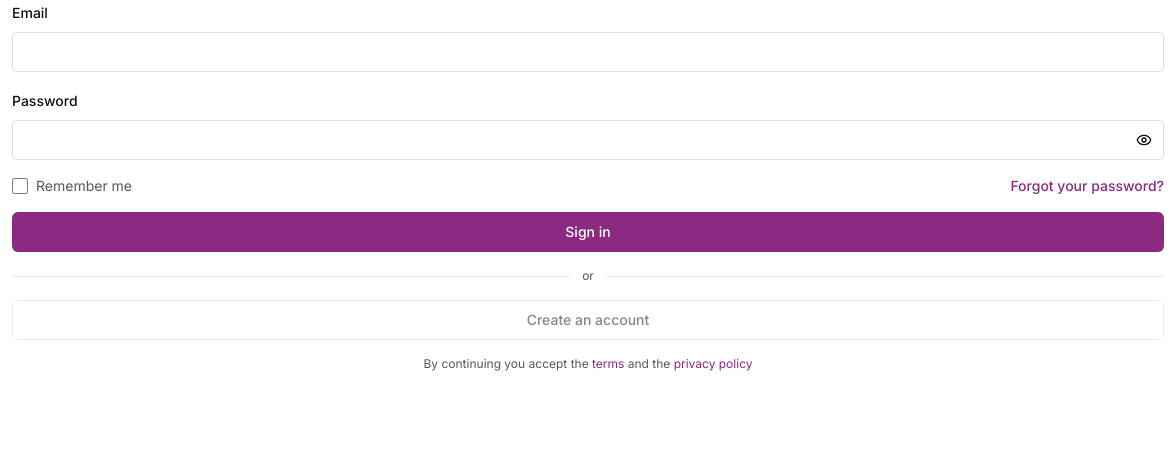
Test: login form — API failures › maps 423 UA-AUTH-003 to its own message
The image size is (1176, 458).
In the field labelled "Email": (588, 52) [12,32,1164,72], type "user@example.com"
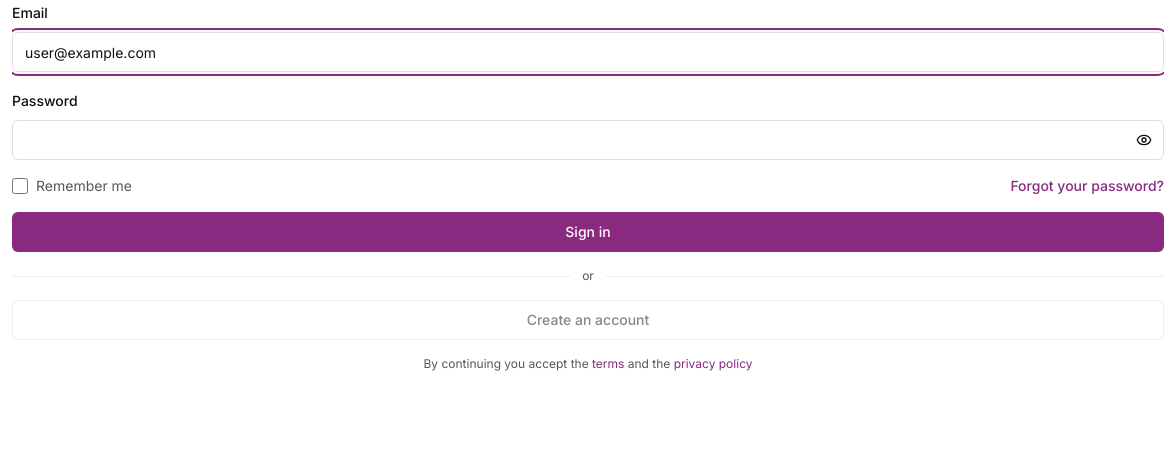
In the password field labelled "Password": (588, 140) [12,120,1164,160], type "secret"
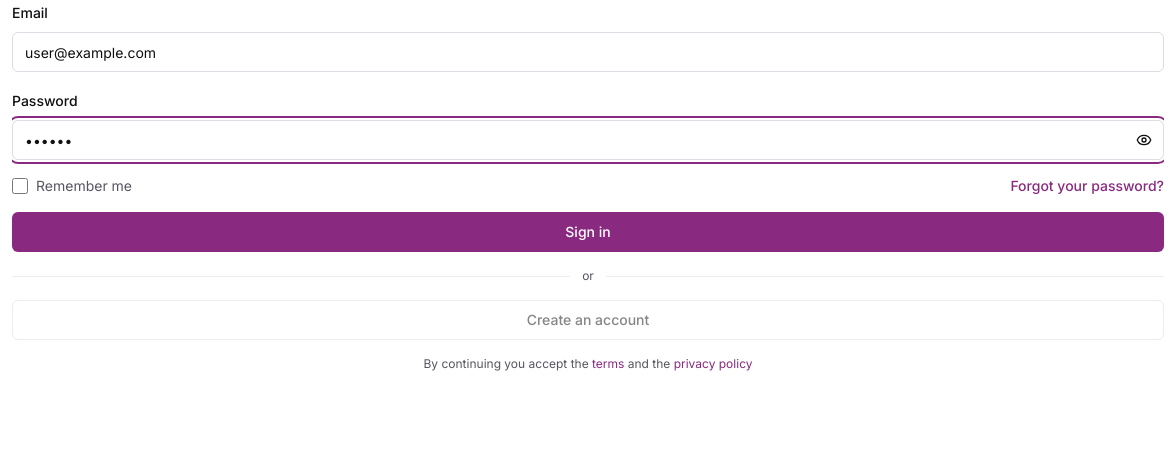
Click the button "Sign in": (588, 232) [12,212,1164,252]
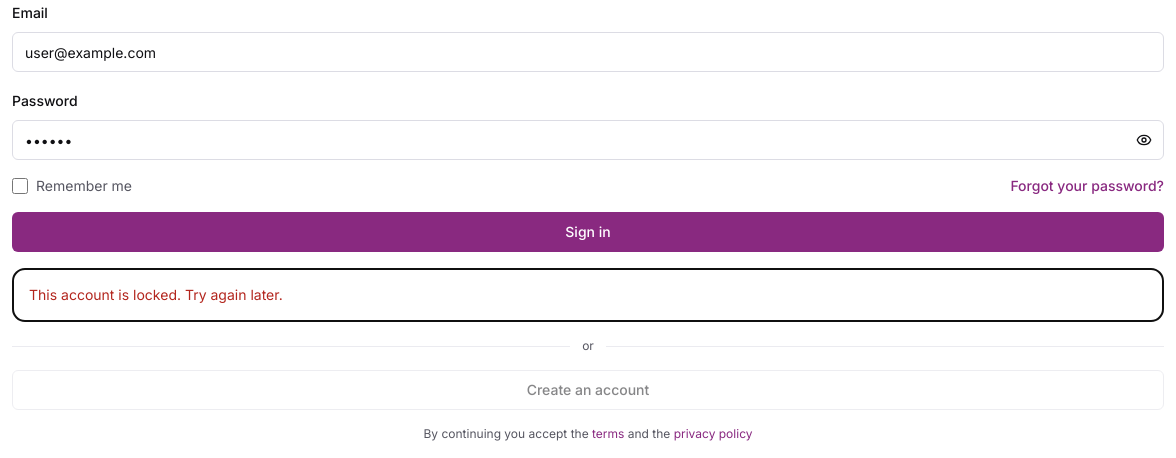
Expected: the message reads "This account is locked. Try again later.", [29,286,283,303]
